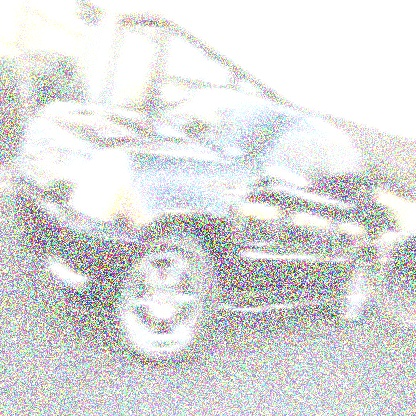Vehicle: (12, 86, 398, 370)
